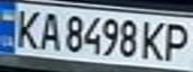4: (81, 13, 103, 55)
8: (118, 16, 142, 60), (60, 11, 84, 53)
9: (100, 16, 121, 57)
A: (36, 9, 63, 52)
K: (9, 6, 42, 51), (139, 18, 169, 62)
P: (160, 20, 193, 63)
